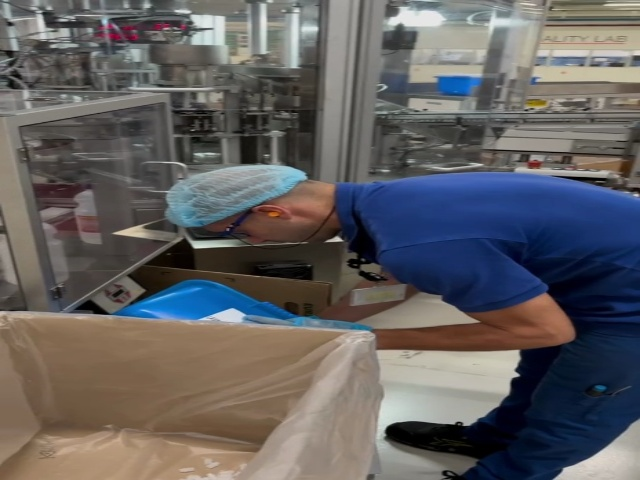Earplug: (252, 203, 295, 225)
Hairnet: (166, 164, 292, 226)
No_Helmet: (165, 165, 307, 224)
No_Vest: (337, 181, 640, 321)
Person: (163, 161, 640, 480)
Safety_Goggles: (214, 197, 266, 242)
